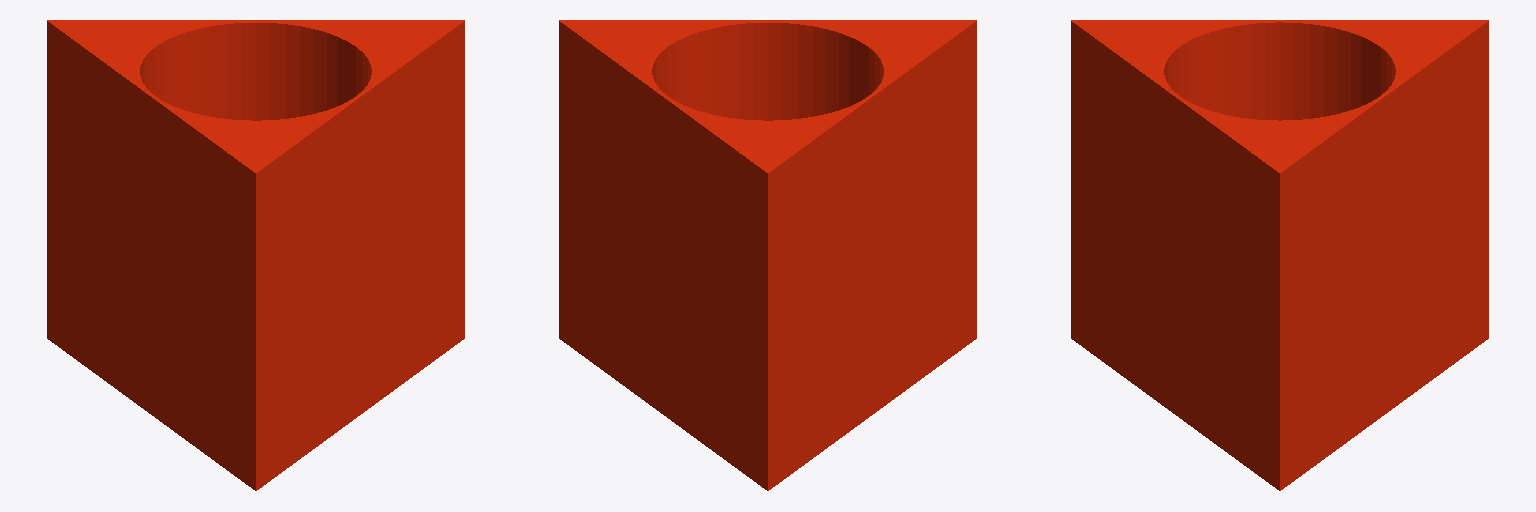
URDF robot description (triangular_block_orange):
<?xml version="1.0" ?>
<robot name="triangular_block_orange">
  <material name="orange">
    <color rgba="0.92 0.23 0.08 1"/>
  </material>

  <link name="triangular_block_orange">
    <contact>
      <lateral_friction value="1.0"/>
      <rolling_friction value="0.0"/>
      <contact_cfm value="0.0"/>
      <contact_erp value="1.0"/>
    </contact>
    <inertial>
      <origin xyz="0 0 0" rpy="0 0 0"/>
      <mass value="0.01"/>
      <inertia ixx="4.0e-7" ixy="0" ixz="0"
               iyy="4.0e-7" iyz="0" izz="3.0e-7"/>
    </inertial>
    <visual>
      <geometry><mesh filename="meshes/triangular_block.obj"/></geometry>
      <material name="orange"/>
    </visual>
    <!-- Separate convex pieces keep the through-hole open in URDF importers. -->
    <collision><geometry><mesh filename="meshes/convex/convex_0.obj"/></geometry></collision>
    <collision><geometry><mesh filename="meshes/convex/convex_1.obj"/></geometry></collision>
    <collision><geometry><mesh filename="meshes/convex/convex_2.obj"/></geometry></collision>
    <collision><geometry><mesh filename="meshes/convex/convex_3.obj"/></geometry></collision>
    <collision><geometry><mesh filename="meshes/convex/convex_4.obj"/></geometry></collision>
    <collision><geometry><mesh filename="meshes/convex/convex_5.obj"/></geometry></collision>
    <collision><geometry><mesh filename="meshes/convex/convex_6.obj"/></geometry></collision>
    <collision><geometry><mesh filename="meshes/convex/convex_7.obj"/></geometry></collision>
    <collision><geometry><mesh filename="meshes/convex/convex_8.obj"/></geometry></collision>
    <collision><geometry><mesh filename="meshes/convex/convex_9.obj"/></geometry></collision>
  </link>
</robot>

--- Render facts (derived) ---
The picture shows the robot from 3 angles, left to right: view 1: azimuth 30°, elevation 25°; view 2: azimuth 150°, elevation 25°; view 3: azimuth 270°, elevation 25°; orthographic projection.
Model triangular_block_orange with 1 links and 0 joints (none), rooted at triangular_block_orange, posed every joint at zero.
Links seen in each view (by area): view 1: triangular_block_orange; view 2: triangular_block_orange; view 3: triangular_block_orange.
Boxes of the visible links, bbox=[...] form: triangular_block_orange: bbox=[47, 20, 464, 490]; triangular_block_orange: bbox=[559, 20, 976, 490]; triangular_block_orange: bbox=[1071, 20, 1488, 490].
Bounding box of the posed robot: 0.015 × 0.0173 × 0.0145 m (x, y, z).
Meshes: 1 distinct files referenced, 1 mesh visuals loaded (1 OBJ).
